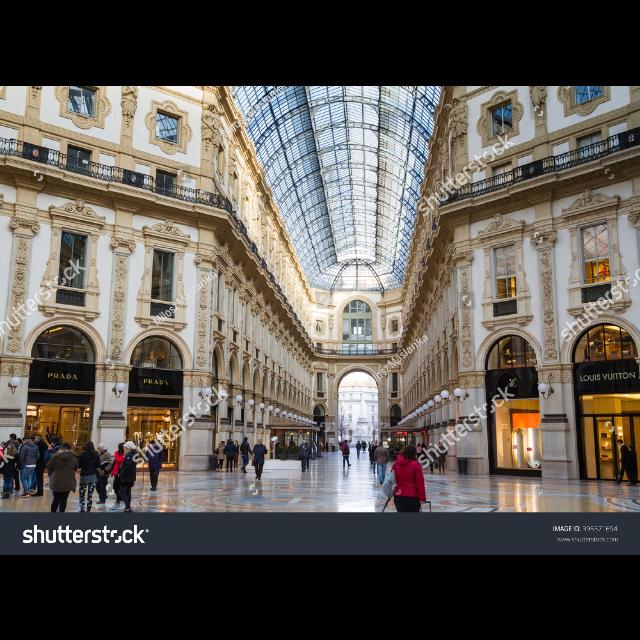head: (402, 444, 418, 460), (122, 442, 134, 454), (51, 436, 60, 448), (61, 442, 71, 452), (119, 442, 128, 452), (98, 443, 106, 453), (34, 434, 42, 444), (86, 442, 94, 451), (22, 437, 31, 445), (8, 443, 16, 451), (150, 439, 158, 446), (10, 433, 16, 442), (618, 439, 624, 446), (628, 445, 634, 451), (428, 442, 434, 448), (378, 440, 384, 446), (440, 441, 444, 447), (258, 439, 262, 445), (244, 436, 248, 442), (228, 438, 232, 444), (222, 440, 226, 446), (344, 440, 348, 444), (306, 442, 310, 446), (235, 440, 239, 444), (418, 442, 420, 446), (374, 442, 376, 446), (304, 441, 306, 445), (358, 441, 360, 444)
person: (46, 442, 80, 520), (112, 440, 140, 516), (75, 440, 102, 516), (44, 435, 68, 515), (110, 442, 134, 510), (17, 434, 41, 498), (142, 439, 166, 491), (30, 434, 50, 496), (93, 442, 113, 503), (614, 439, 638, 487), (0, 442, 20, 498), (7, 432, 21, 493), (374, 441, 391, 485), (252, 438, 268, 480), (223, 438, 239, 472), (626, 444, 638, 486), (239, 436, 253, 472), (426, 442, 440, 474), (213, 440, 227, 472), (437, 440, 449, 474), (298, 439, 310, 473), (340, 439, 352, 469), (371, 441, 381, 474), (302, 442, 312, 470), (232, 439, 240, 468), (416, 443, 422, 463), (356, 440, 362, 458)
